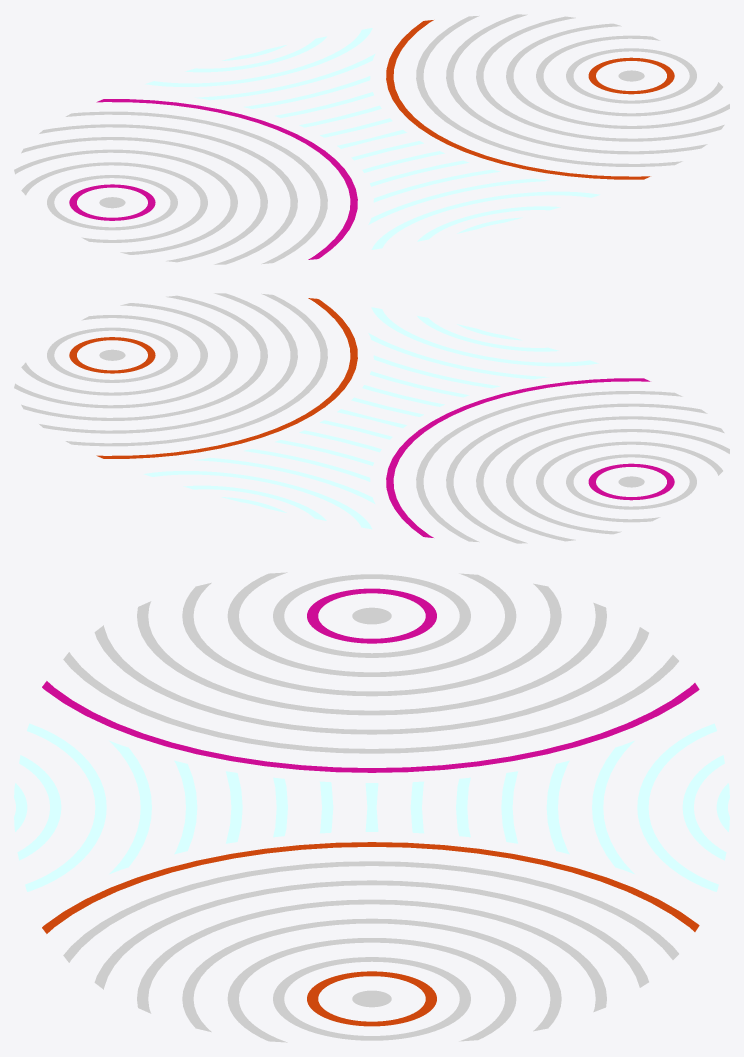
Rendered from mesh_RTA_CTF_floorpattern.fbx.
3 renders of one model, top to bottom at view 1: azimuth 30°, elevation 25°; view 2: azimuth 150°, elevation 25°; view 3: azimuth 270°, elevation 25°, orthographic. The views are drawn at different scales.
Visible parts, largest first — view 1: mesh_RTA_CTF_floorpattern, mesh_RTA_CTF_floorpattern.001; view 2: mesh_RTA_CTF_floorpattern, mesh_RTA_CTF_floorpattern.001; view 3: mesh_RTA_CTF_floorpattern, mesh_RTA_CTF_floorpattern.001.
Boxes of the visible parts, x1,y1,x2,y2 form: mesh_RTA_CTF_floorpattern: (14,14,729,264); mesh_RTA_CTF_floorpattern.001: (145,28,600,249); mesh_RTA_CTF_floorpattern: (14,293,729,543); mesh_RTA_CTF_floorpattern.001: (143,307,598,529); mesh_RTA_CTF_floorpattern: (42,572,699,1042); mesh_RTA_CTF_floorpattern.001: (14,723,729,891).
Bounding box in the file's own units: 56.5 × 2.86e-06 × 36.36.
